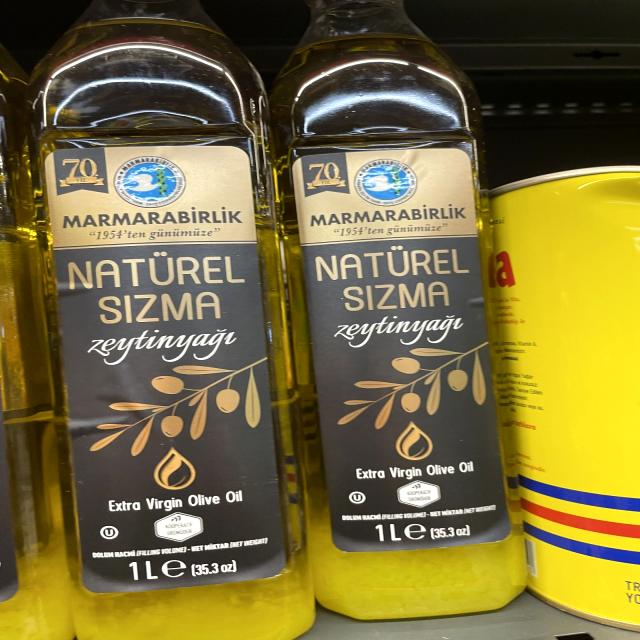olive oil: (40, 0, 277, 640), (278, 2, 510, 608)
